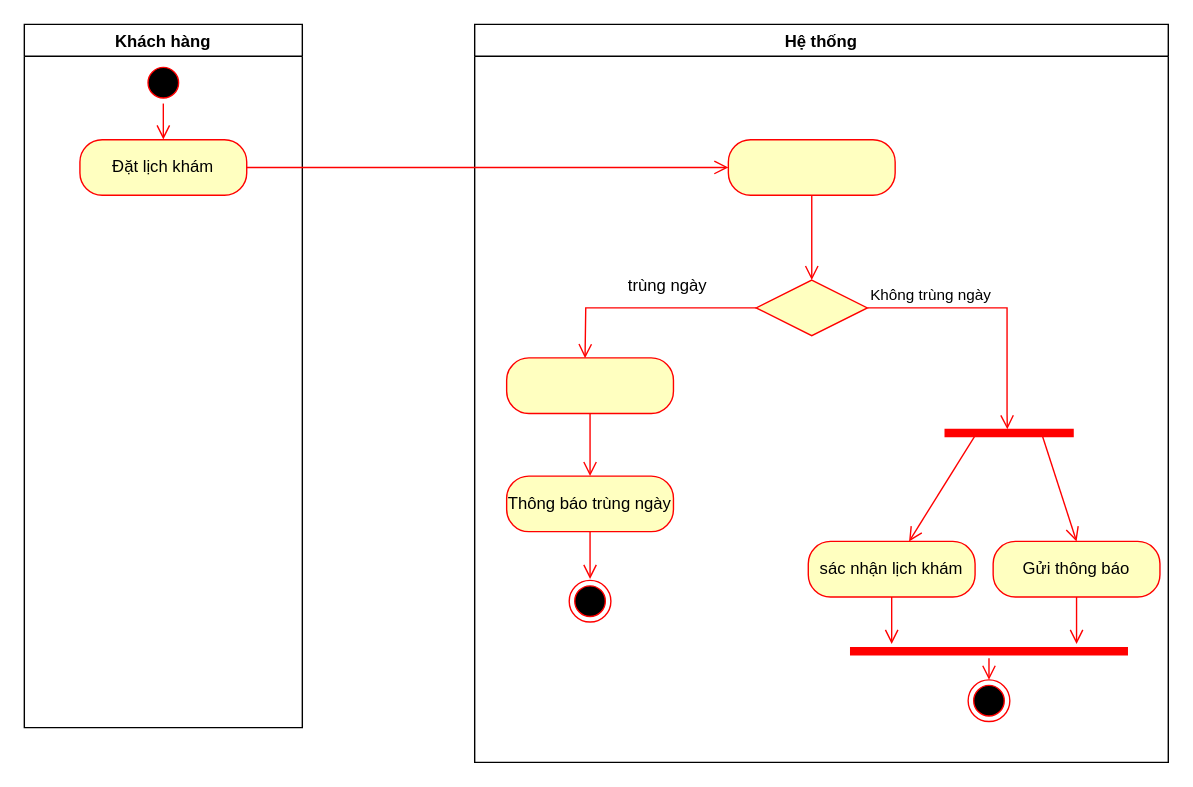
Image size: 1193x787. Some labels were removed from this diagram. The centre of each missing label's shape, as x and y in pixels:
"Kiểm tra" goes at point (811, 307).
"Kiểm tra ngày đặt" goes at point (811, 166).
"Từ chối đặt lịch" goes at point (589, 385).
